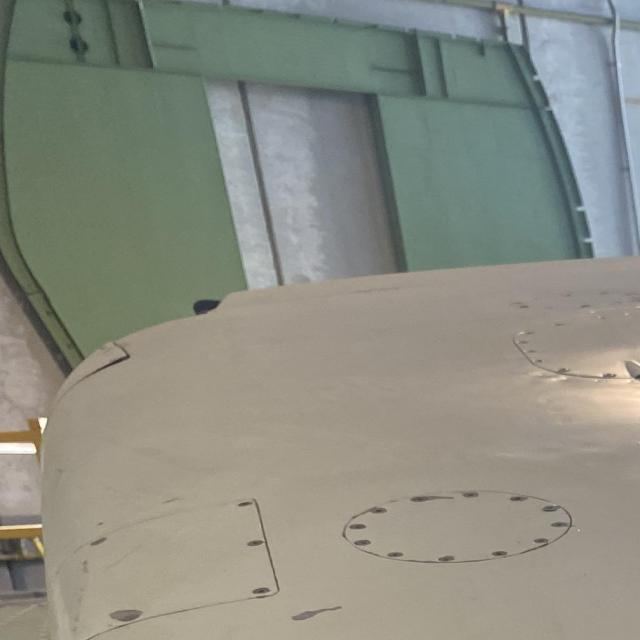Paint-off: (287, 604, 338, 621), (406, 490, 457, 503), (105, 608, 137, 622)
